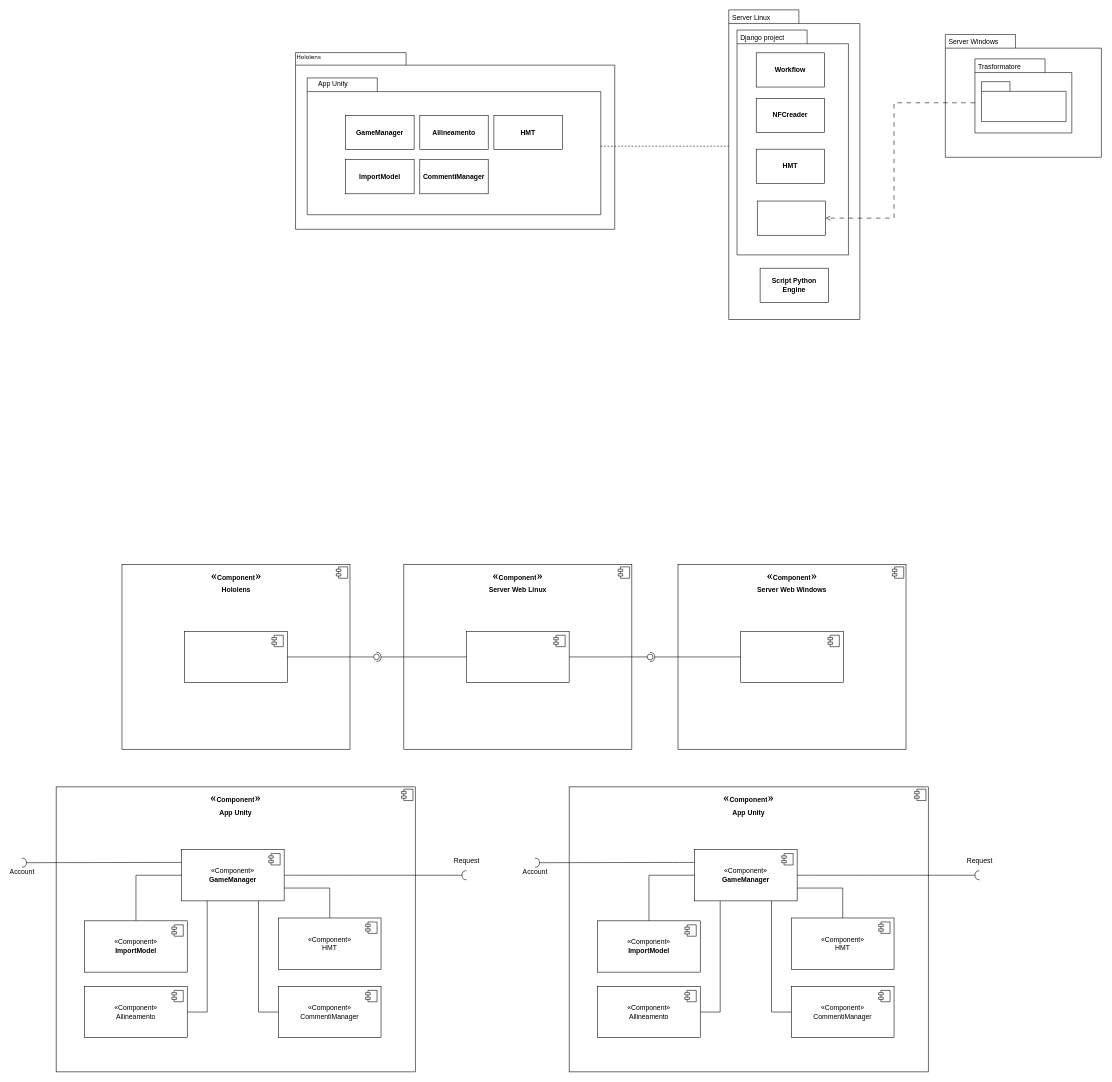
The diagram is 1112 pixels wide and 1082 high, and some of its shapes have lost their labels. The centre of each missing label's shape, as x and y in pixels:
"IfcToGltf" goes at point (791, 217).
"Program" goes at point (1023, 101).
"«Component» App Unity" goes at point (235, 657).
"«Component» Django project" goes at point (517, 657).
"«Component» Trasformer project" goes at point (791, 657).
